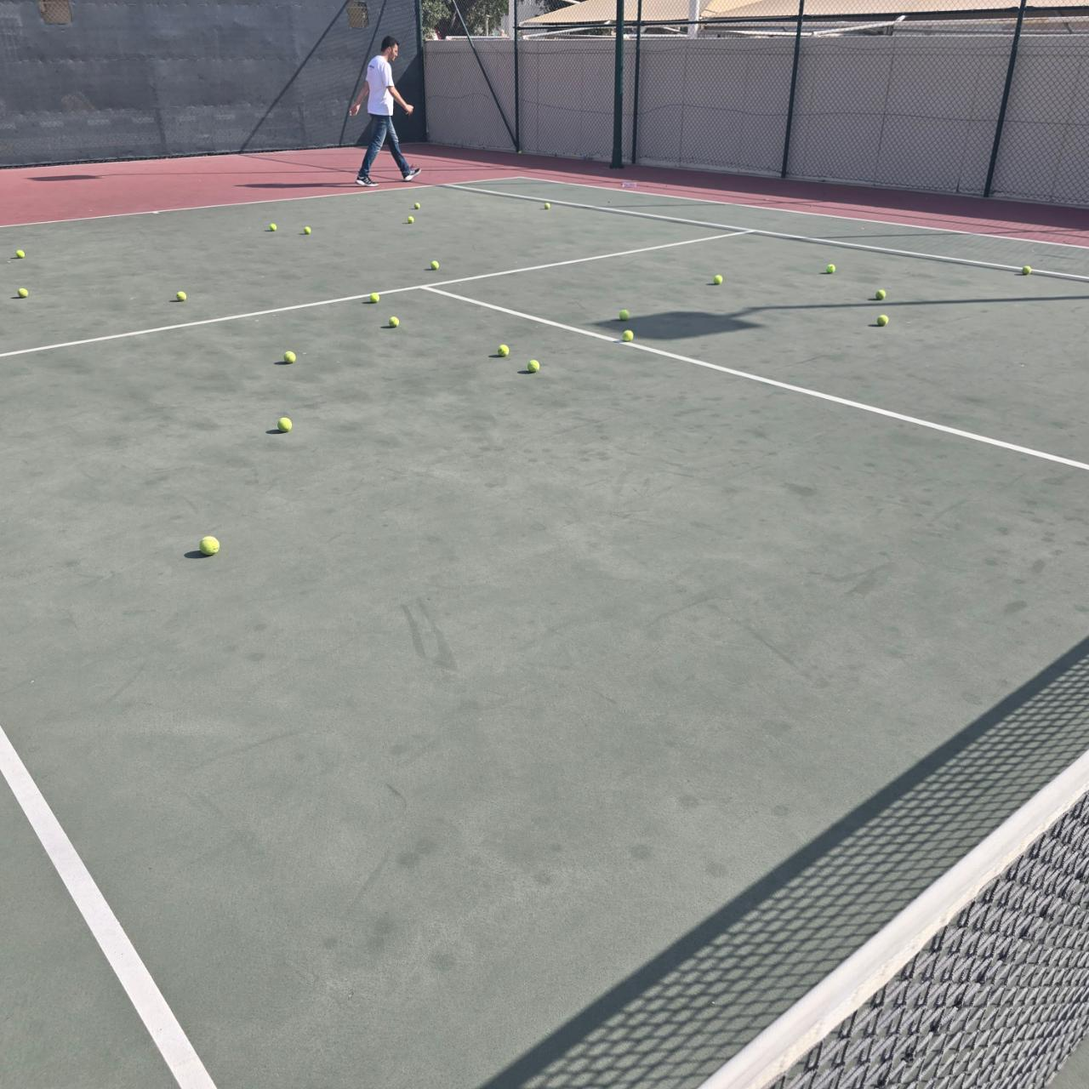tennis-ball: (198, 533, 220, 555), (277, 414, 292, 431), (875, 311, 889, 326), (283, 348, 296, 362), (496, 344, 509, 358), (621, 329, 634, 342), (527, 359, 539, 373), (618, 307, 630, 320), (875, 289, 887, 301), (388, 315, 399, 328), (824, 261, 835, 273), (369, 292, 380, 304), (177, 290, 187, 302), (17, 288, 29, 298), (1021, 265, 1032, 275), (713, 275, 723, 285), (431, 260, 440, 270), (16, 250, 26, 258), (269, 223, 278, 231), (407, 216, 415, 223), (304, 226, 311, 234), (544, 202, 551, 210), (414, 202, 420, 210), (518, 151, 522, 154)
